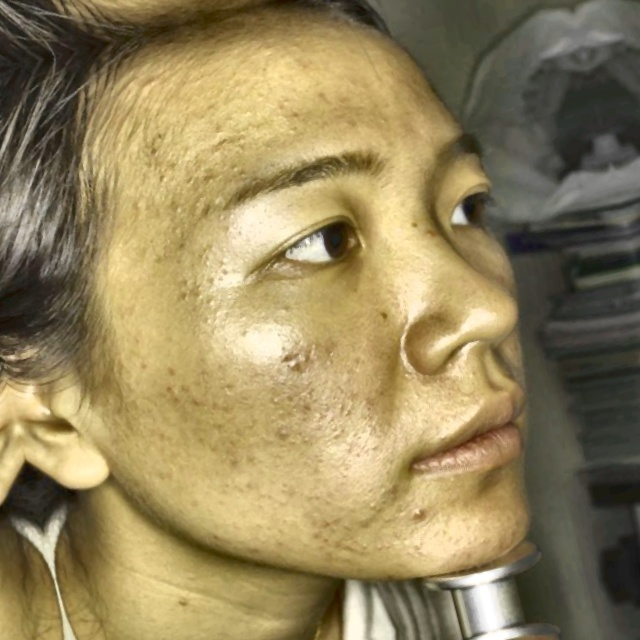comedone: (398, 492, 443, 529)
